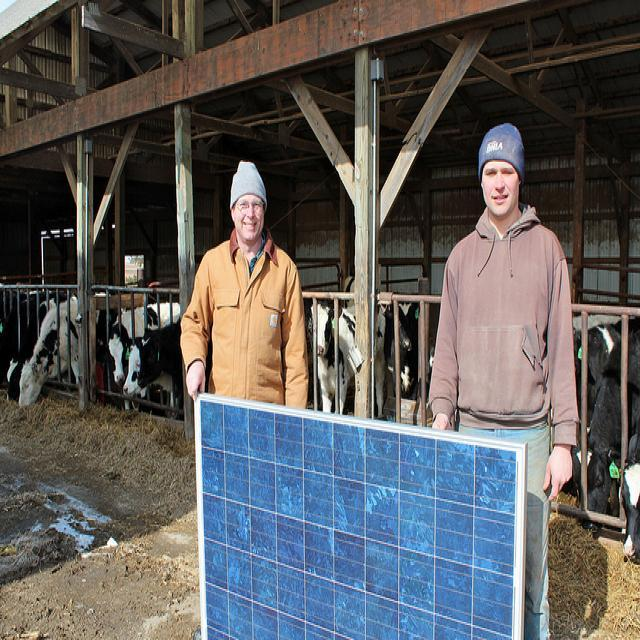cow: (576, 348, 621, 535), (17, 291, 80, 408), (373, 301, 433, 414), (107, 300, 179, 387), (121, 319, 182, 415), (616, 313, 639, 564), (4, 292, 55, 402), (570, 321, 619, 424), (309, 300, 353, 412)
